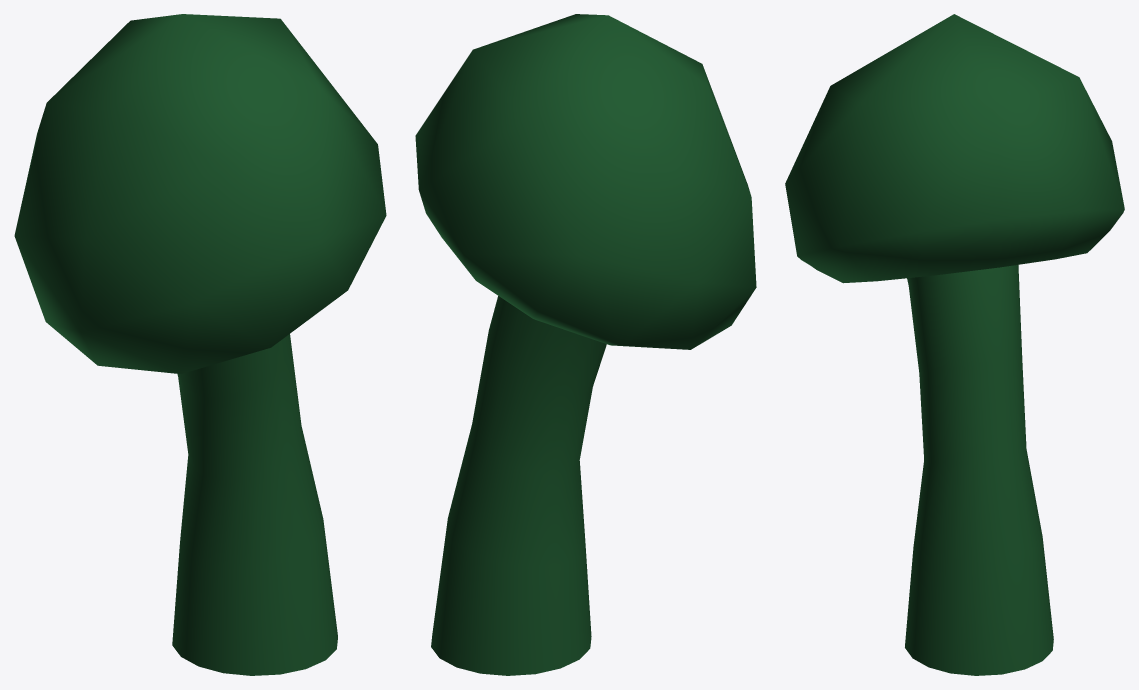
The model's file is Mushroom03.fbx.
The picture shows the model from 3 angles, left to right: view 1: azimuth 30°, elevation 25°; view 2: azimuth 150°, elevation 25°; view 3: azimuth 270°, elevation 25°; orthographic projection. The views are drawn at different scales.
Visible parts, largest first — view 1: Mushroom_2; view 2: Mushroom_2; view 3: Mushroom_2.
Boxes of the visible parts, x1,y1,x2,y2 form: Mushroom_2: (14, 14, 386, 675); Mushroom_2: (415, 14, 756, 675); Mushroom_2: (785, 14, 1124, 675).
Size of the model in its own units: 11.96 by 24.6 by 12.79.
